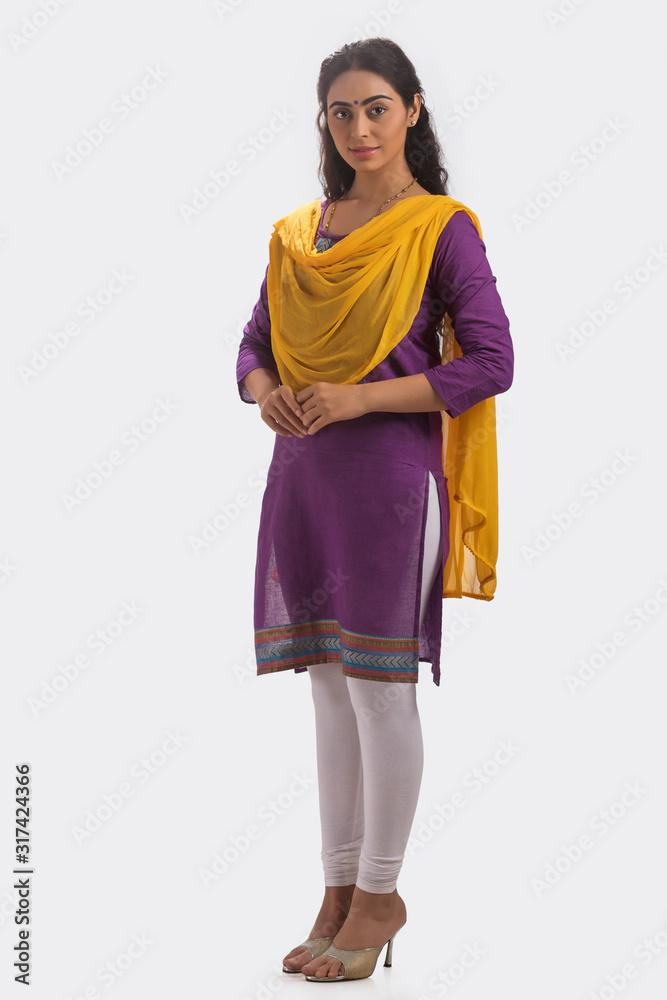Human: (231, 18, 482, 992)
